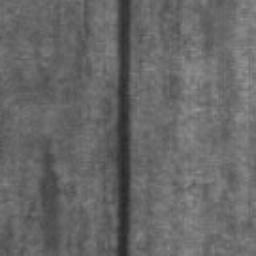Scratches: (115, 0, 133, 256)
